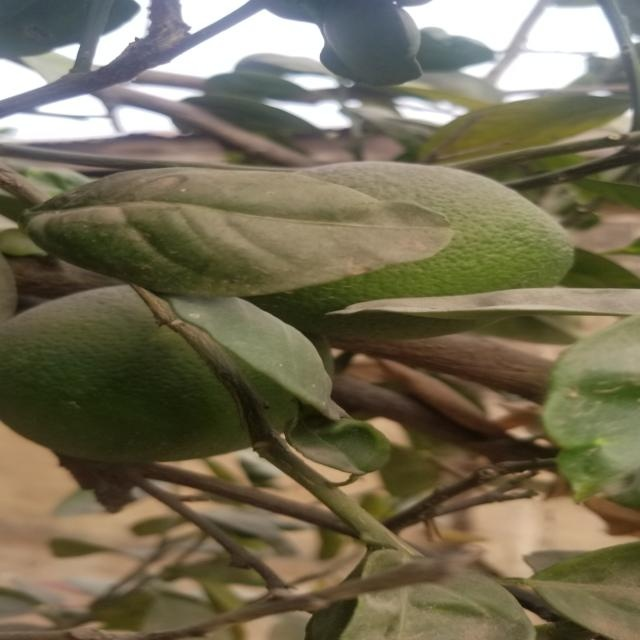agrume: (242, 162, 581, 327), (0, 285, 300, 463)
